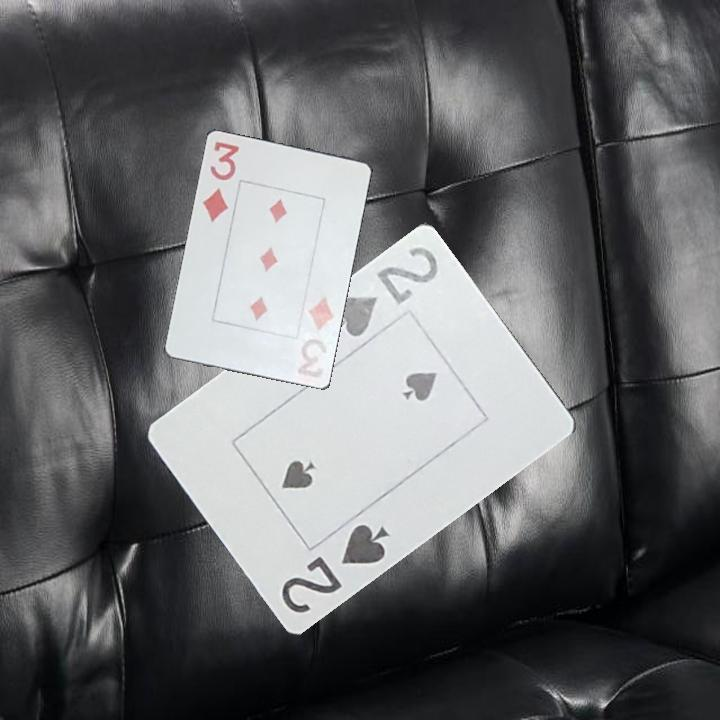2s: (326, 243, 443, 341), (277, 521, 392, 617)
3d: (291, 293, 337, 382), (197, 138, 242, 225)
